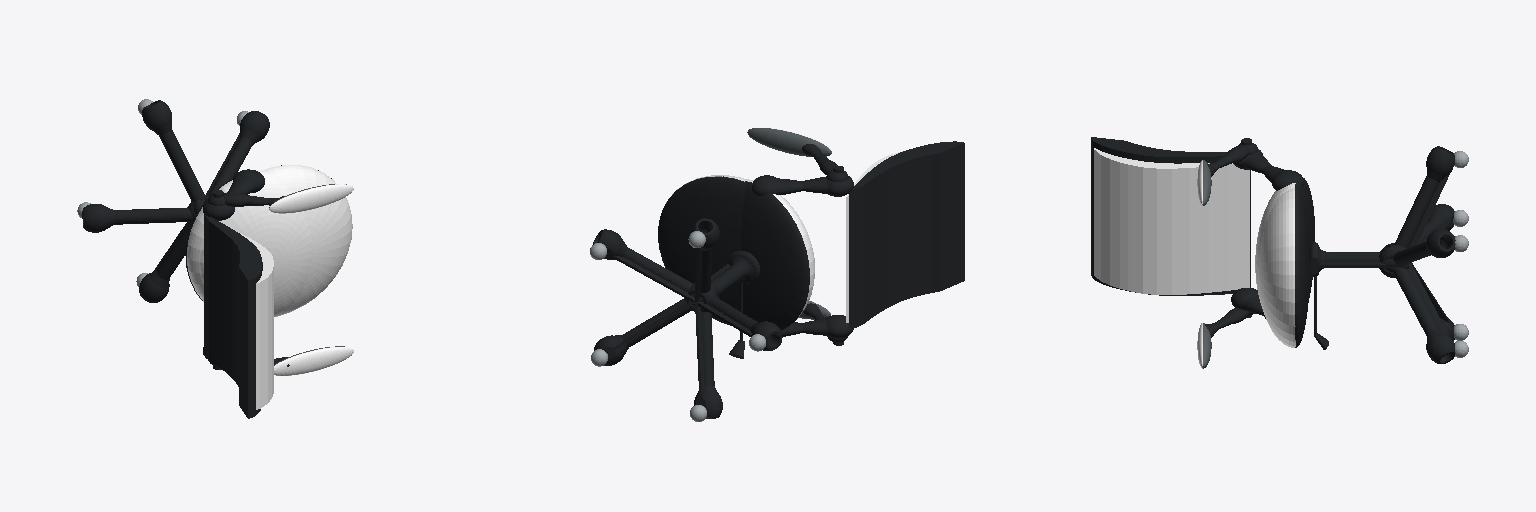
File: tinker.obj
3 renders of one model, left to right at view 1: azimuth 30°, elevation 25°; view 2: azimuth 150°, elevation 25°; view 3: azimuth 270°, elevation 25°, orthographic.
Visible parts, largest first — view 1: obj_0; view 2: obj_0; view 3: obj_0.
Part boxes in pixels (bbox=[...]): obj_0: bbox=[77, 99, 353, 418]; obj_0: bbox=[590, 128, 964, 421]; obj_0: bbox=[1091, 137, 1468, 368].
Bounding box in the file's own units: 11.37 × 10.62 × 18.19.